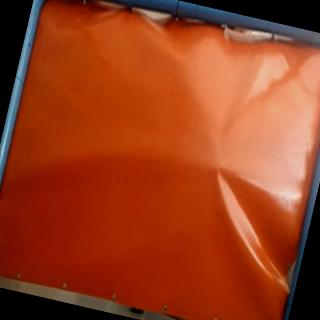Hit-hRxx: (208, 158, 228, 176)
